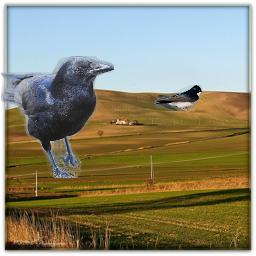Crow: (1, 56, 114, 178)
Swallow: (154, 85, 202, 112)
